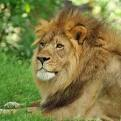lion: (30, 11, 121, 119)
